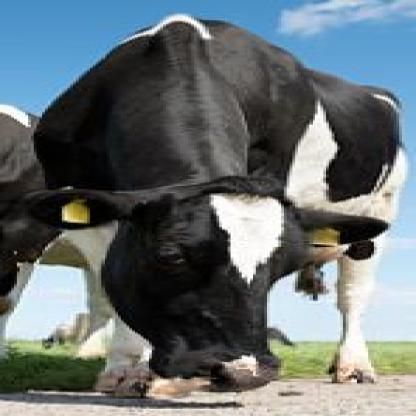cow: (19, 15, 404, 398)
